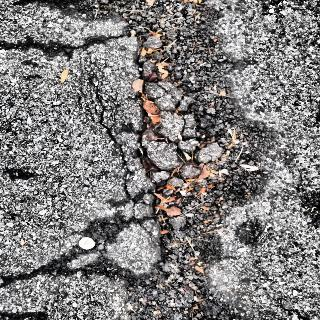alligator-crack: (106, 0, 294, 320)
crack: (0, 207, 97, 320), (1, 26, 98, 68)
